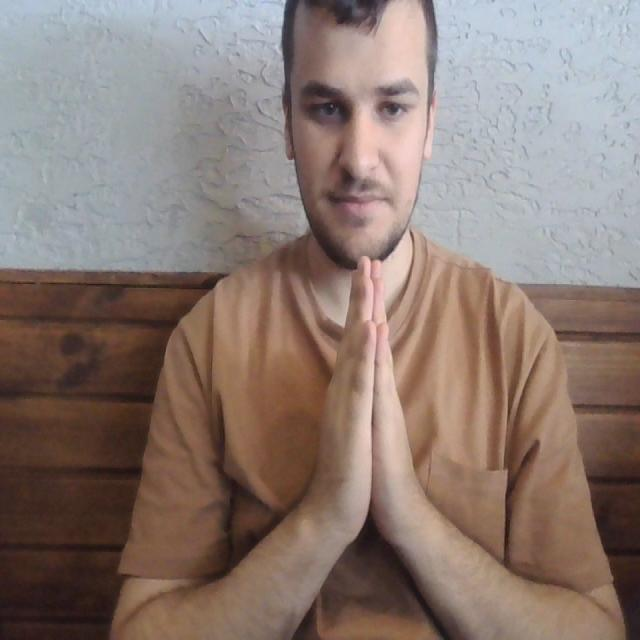Ozur-Dilemek: (310, 250, 426, 565)
